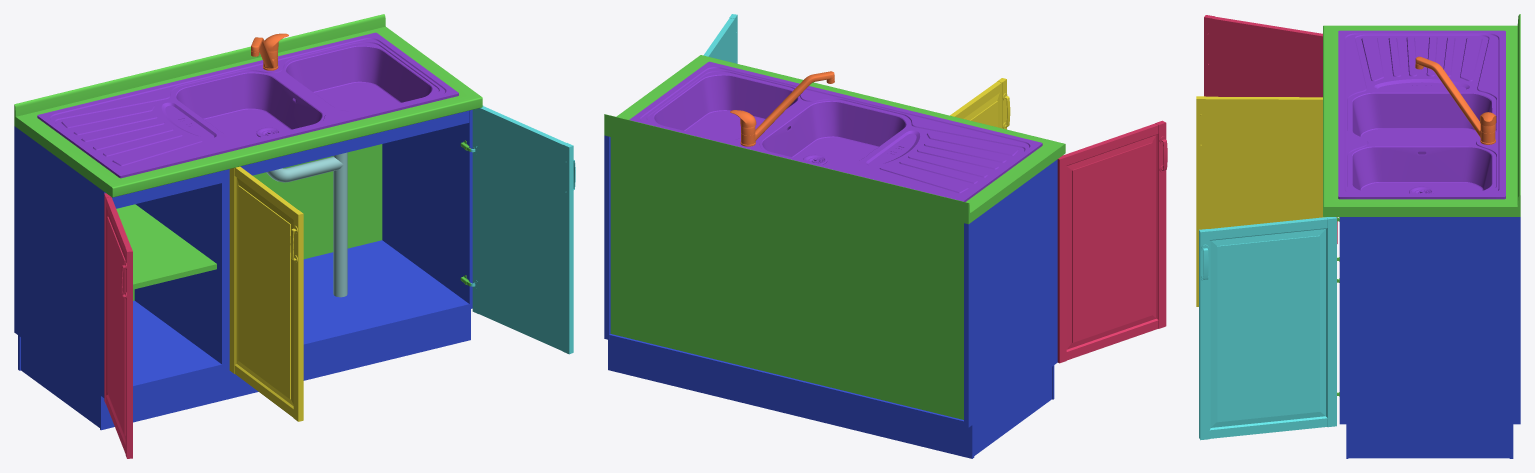
File: KitchenCabinetwithSink.fbx
3 renders of one model, left to right at view 1: azimuth 30°, elevation 25°; view 2: azimuth 150°, elevation 25°; view 3: azimuth 270°, elevation 25°, orthographic.
Parts seen in each view (by area): view 1: CabinetBase_Part1, Sink_Part1, CabinetBase_Part2, CabinetDoorRight, CabinetDoorCenter, CabinetDoorLeft, Sink_Part2; view 2: CabinetBase_Part2, CabinetBase_Part1, Sink_Part1, CabinetDoorLeft, CabinetDoorCenter, Faucet_Tube, CabinetDoorRight; view 3: CabinetBase_Part1, CabinetDoorRight, Sink_Part1, CabinetDoorCenter, CabinetBase_Part2, CabinetDoorLeft, Faucet_Tube.
Boxes of the visible parts, x1=… form: CabinetBase_Part1: x1=14, y1=110, x2=472, y2=430; Sink_Part1: x1=37, y1=32, x2=458, y2=178; CabinetBase_Part2: x1=14, y1=14, x2=482, y2=300; CabinetDoorRight: x1=470, y1=105, x2=575, y2=354; CabinetDoorCenter: x1=229, y1=166, x2=303, y2=421; CabinetDoorLeft: x1=104, y1=193, x2=132, y2=458; Sink_Part2: x1=266, y1=152, x2=347, y2=297; CabinetBase_Part2: x1=604, y1=55, x2=1065, y2=419; CabinetBase_Part1: x1=604, y1=135, x2=1057, y2=458; Sink_Part1: x1=629, y1=61, x2=1042, y2=201; CabinetDoorLeft: x1=1057, y1=120, x2=1167, y2=363; CabinetDoorCenter: x1=950, y1=78, x2=1010, y2=129; Faucet_Tube: x1=741, y1=71, x2=834, y2=144; CabinetDoorRight: x1=703, y1=14, x2=737, y2=63; CabinetBase_Part1: x1=1339, y1=217, x2=1520, y2=458; CabinetDoorRight: x1=1199, y1=217, x2=1336, y2=440; Sink_Part1: x1=1338, y1=30, x2=1505, y2=199; CabinetDoorCenter: x1=1196, y1=96, x2=1325, y2=306; CabinetBase_Part2: x1=1323, y1=14, x2=1520, y2=396; CabinetDoorLeft: x1=1204, y1=15, x2=1337, y2=243; Faucet_Tube: x1=1415, y1=56, x2=1495, y2=142.
Bounding box in the file's own units: 165 × 109 × 102.
